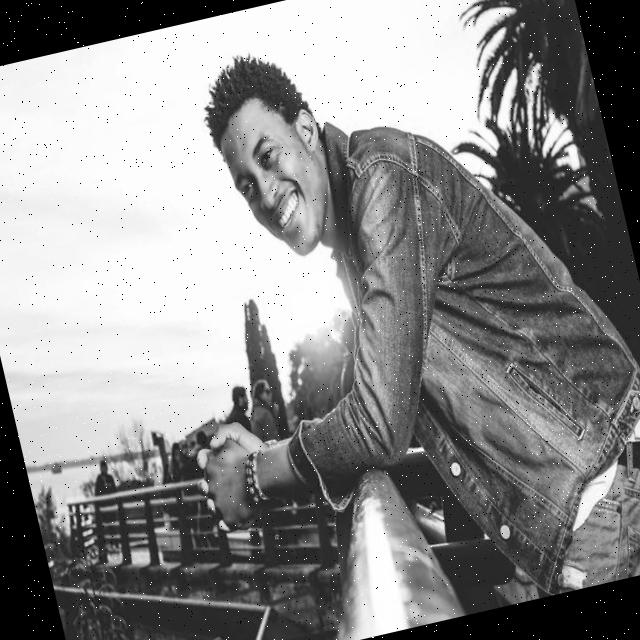Happiness: (208, 86, 342, 272)
